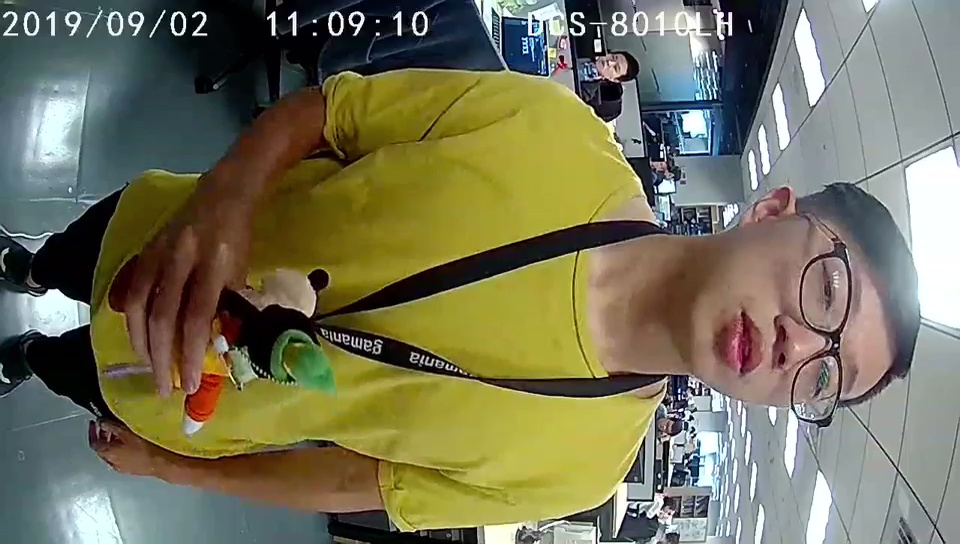goofy: (184, 290, 334, 434)
